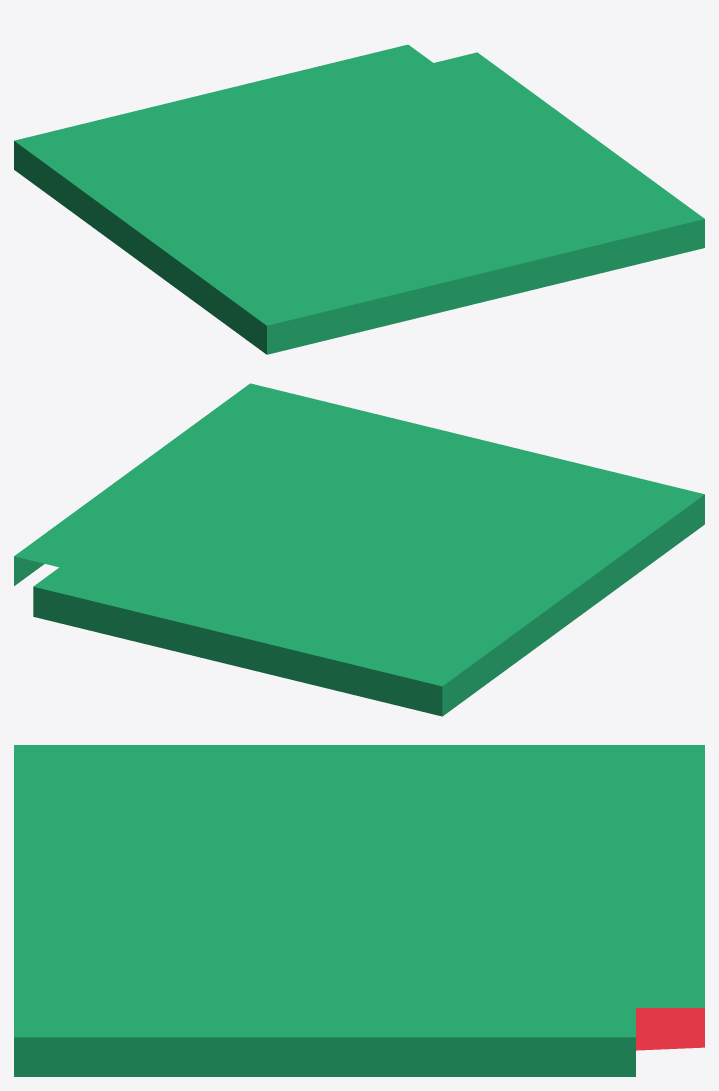
The model's file is InnerCorner (Grass).fbx.
The picture shows the model from 3 angles, top to bottom: view 1: azimuth 30°, elevation 25°; view 2: azimuth 150°, elevation 25°; view 3: azimuth 270°, elevation 25°; orthographic projection. The views are drawn at different scales.
Visible parts, largest first — view 1: innerCorner001; view 2: innerCorner001; view 3: innerCorner001.
Part boxes in pixels (<box>): innerCorner001: <box>14,44,704,354</box>; innerCorner001: <box>14,383,704,716</box>; innerCorner001: <box>14,745,704,1076</box>.
Bounding box in the file's own units: 39.37 × 5.77 × 39.37.
